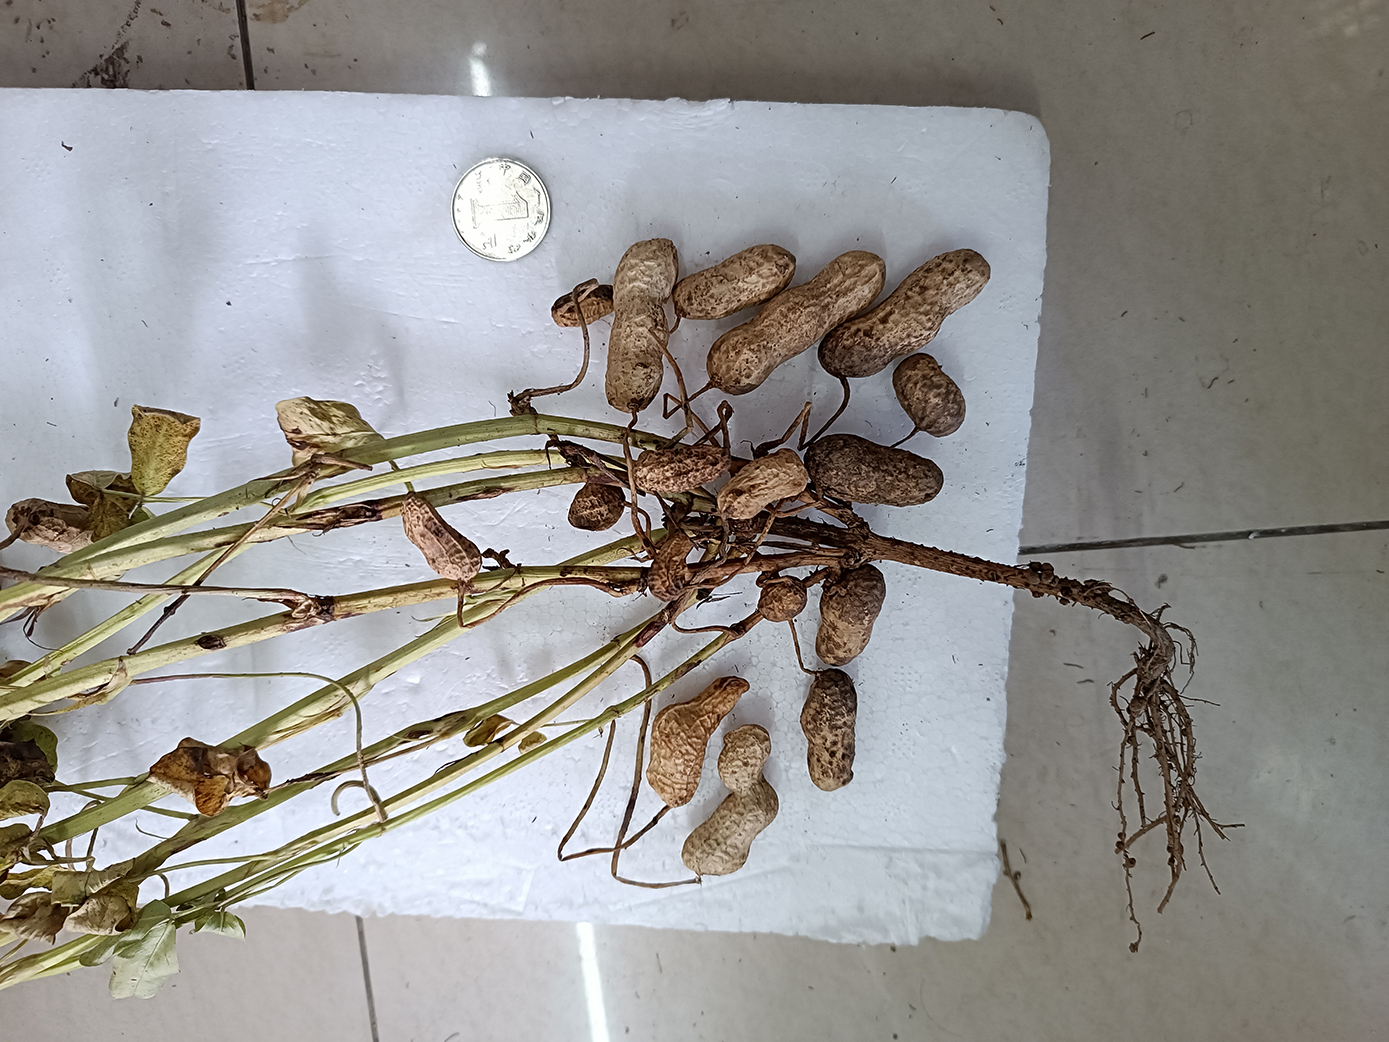h: (708, 252, 884, 394), (817, 248, 989, 378), (683, 723, 782, 876), (646, 676, 750, 807), (607, 238, 679, 415), (671, 244, 795, 322), (401, 491, 481, 584), (800, 669, 859, 794), (817, 561, 886, 665), (717, 449, 806, 520), (637, 450, 731, 493), (650, 533, 699, 601), (552, 282, 612, 326), (756, 577, 807, 623)
l: (807, 435, 945, 507), (895, 356, 966, 437), (569, 479, 626, 533)
